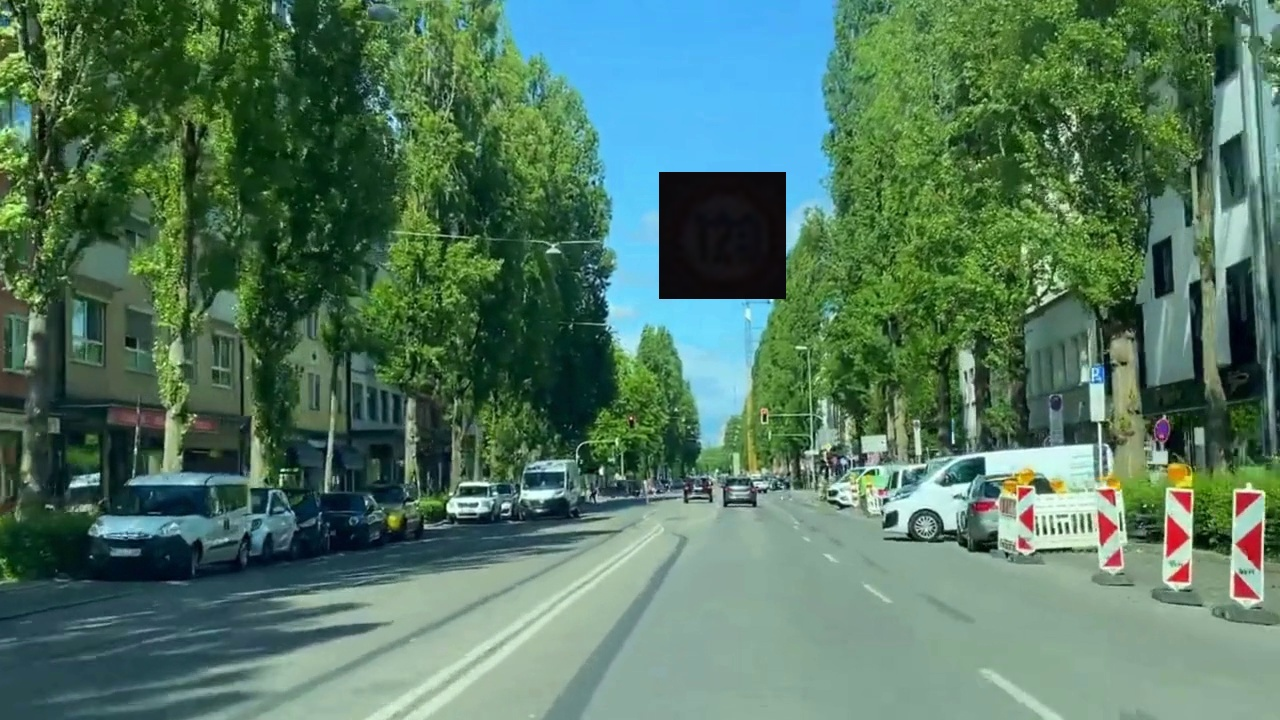Speed 120: (659, 172, 786, 299)
